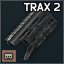AK Strike Industries TRAX 2 handguard extension: (0, 0, 64, 64)
